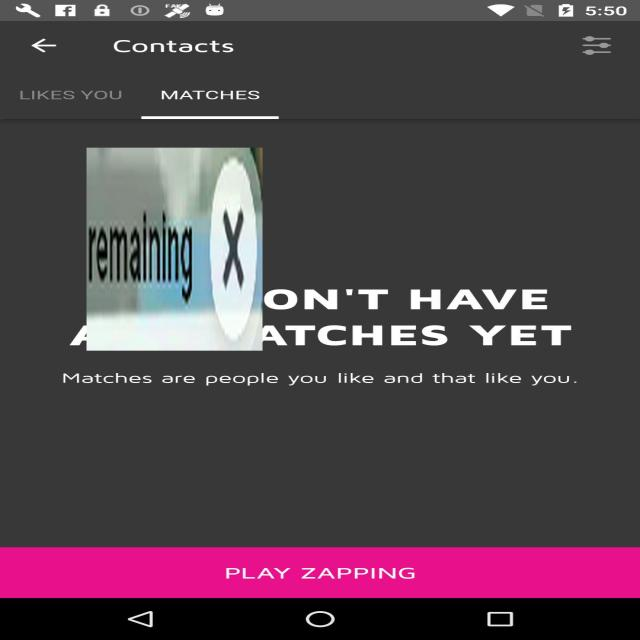misdirection: (86, 147, 262, 350)
